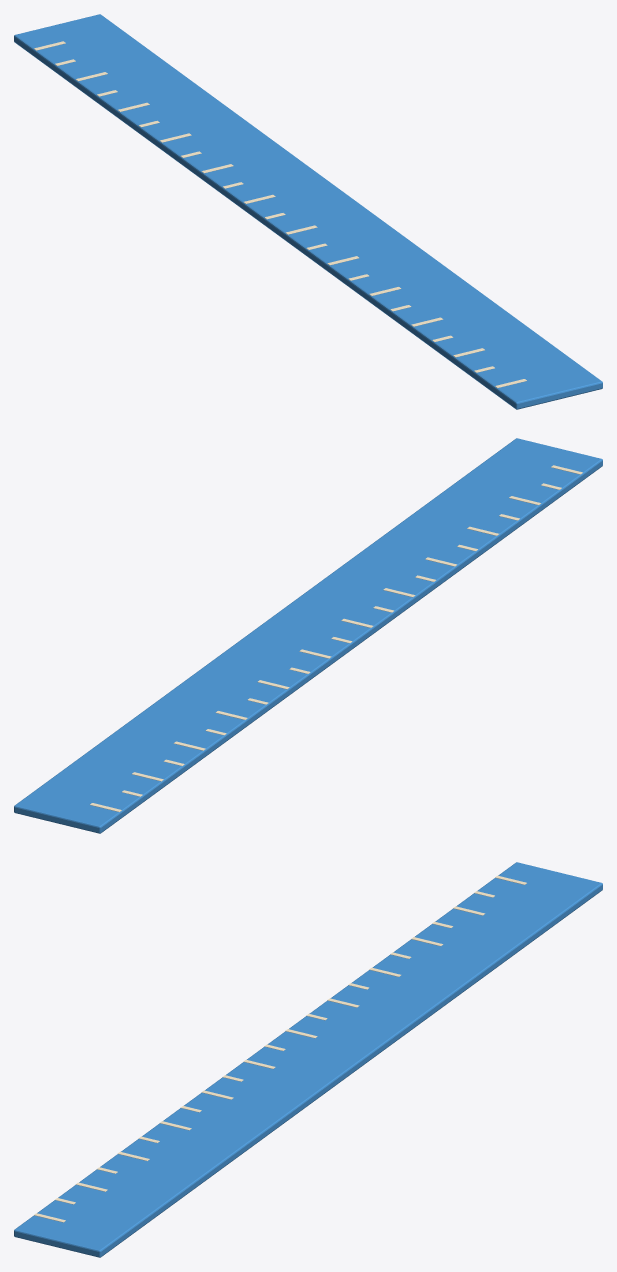
The model's file is prop_ruler.glb.
3 views of the same model, one above another, from view 1: azimuth 30°, elevation 25°; view 2: azimuth 150°, elevation 25°; view 3: azimuth 330°, elevation 25° (orthographic).
Visible parts, largest first — view 1: PropRuler; view 2: PropRuler; view 3: PropRuler.
Boxes of the visible parts, bbox=[...] form: PropRuler: bbox=[14, 14, 602, 409]; PropRuler: bbox=[14, 438, 602, 833]; PropRuler: bbox=[14, 862, 602, 1257].
Bounding box in the file's own units: 1.2 × 0.107 × 12.
